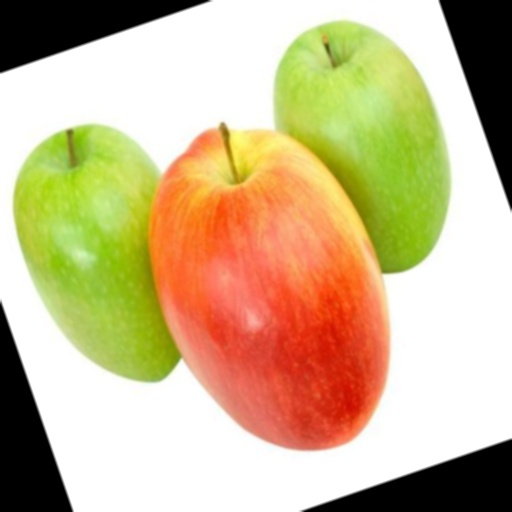fruit: (102, 0, 505, 307), (46, 158, 298, 512), (0, 180, 130, 470)
